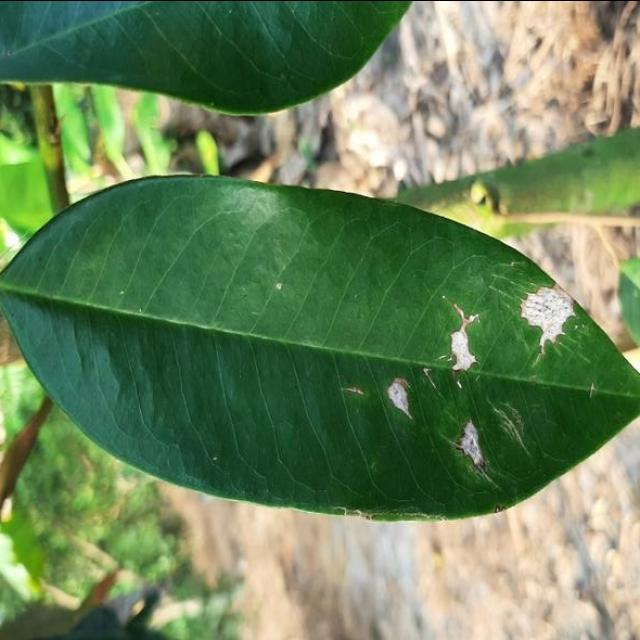Leaf Blight: (0, 168, 640, 525)
